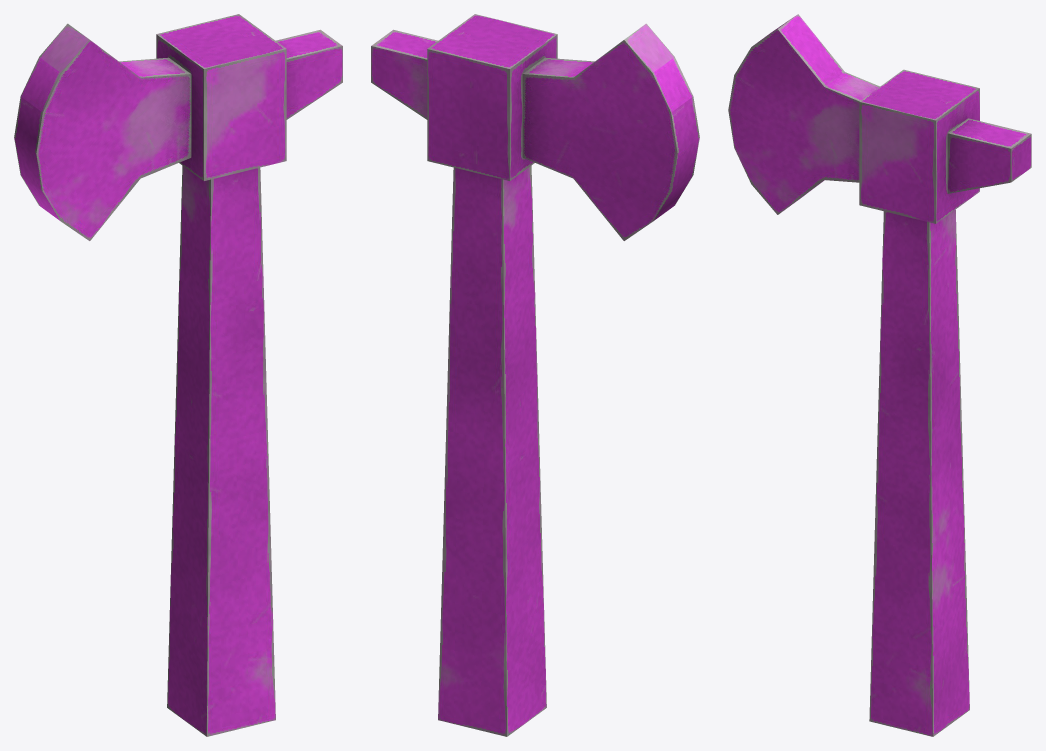
Rendered from tool-axe.glb.
3 renders of one model, left to right at view 1: azimuth 30°, elevation 25°; view 2: azimuth 150°, elevation 25°; view 3: azimuth 330°, elevation 25°, orthographic. The views are drawn at different scales.
Parts seen in each view (by area): view 1: tool-axe; view 2: tool-axe; view 3: tool-axe.
Part boxes in pixels (box(x1,y1,x2,y2)): tool-axe: box(14, 14, 342, 736); tool-axe: box(371, 14, 699, 736); tool-axe: box(728, 14, 1031, 736).
Bounding box in the file's own units: 0.1145 × 0.256 × 0.0309.
Materials: 1 (1 with a texture image).
